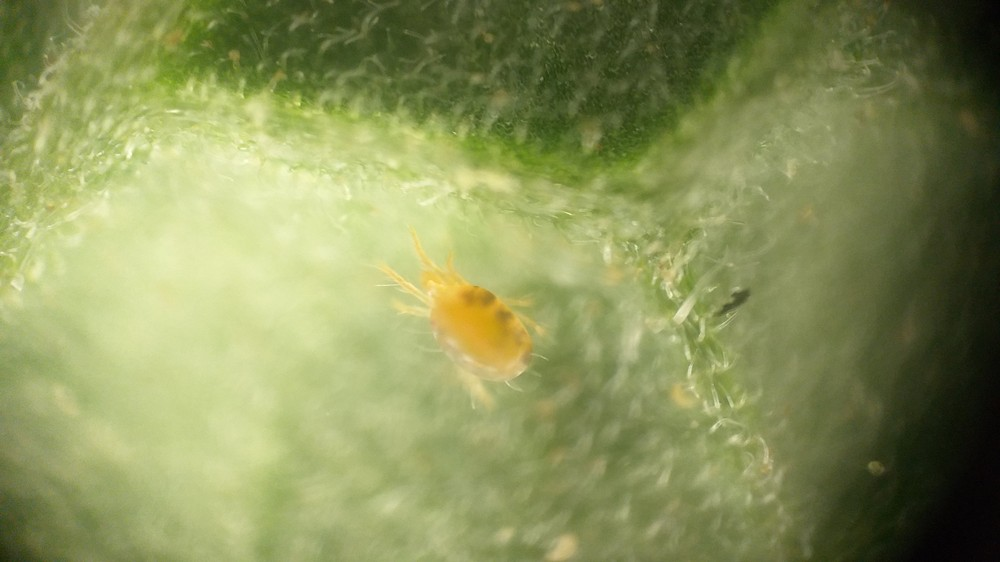Aracnido Rojo: (354, 227, 566, 416)
